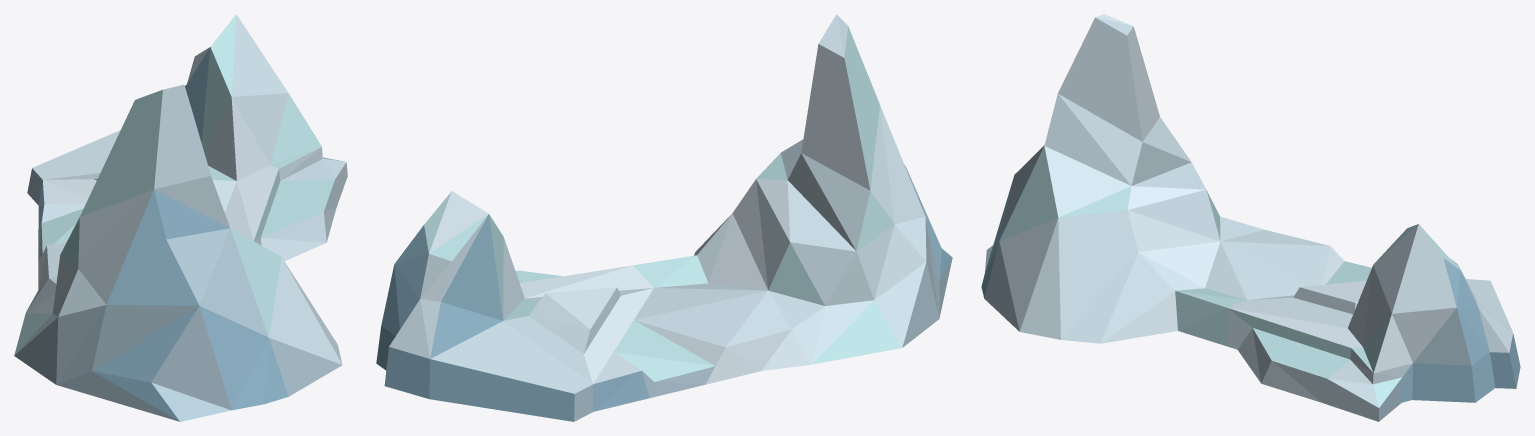
File: Iceberg 2.fbx
3 views of the same model, side by side, from view 1: azimuth 30°, elevation 25°; view 2: azimuth 150°, elevation 25°; view 3: azimuth 270°, elevation 25° (orthographic). The views are drawn at different scales.
Visible parts, largest first — view 1: Iceberg 2; view 2: Iceberg 2; view 3: Iceberg 2.
Part boxes in pixels (<box>): Iceberg 2: <box>14,14,347,421</box>; Iceberg 2: <box>376,14,952,421</box>; Iceberg 2: <box>981,14,1520,421</box>.
Size of the model in its own units: 12139 by 7467 by 13979.
